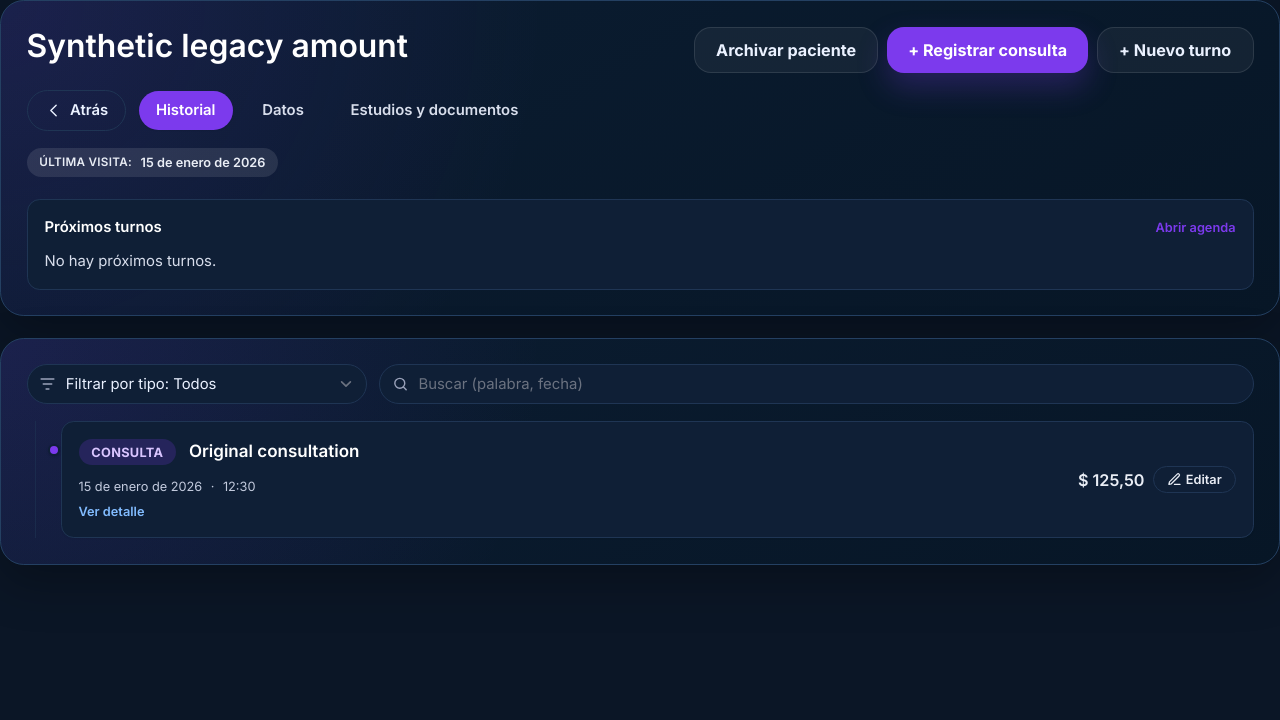
actual patient clinical editor submission › merges only an owned confirmed entry without a full page reload (owned: true)
The width and height of the screenshot is (1280, 720).
Click the button "+ Registrar consulta" at [988, 50], box [887,26,1088,73]
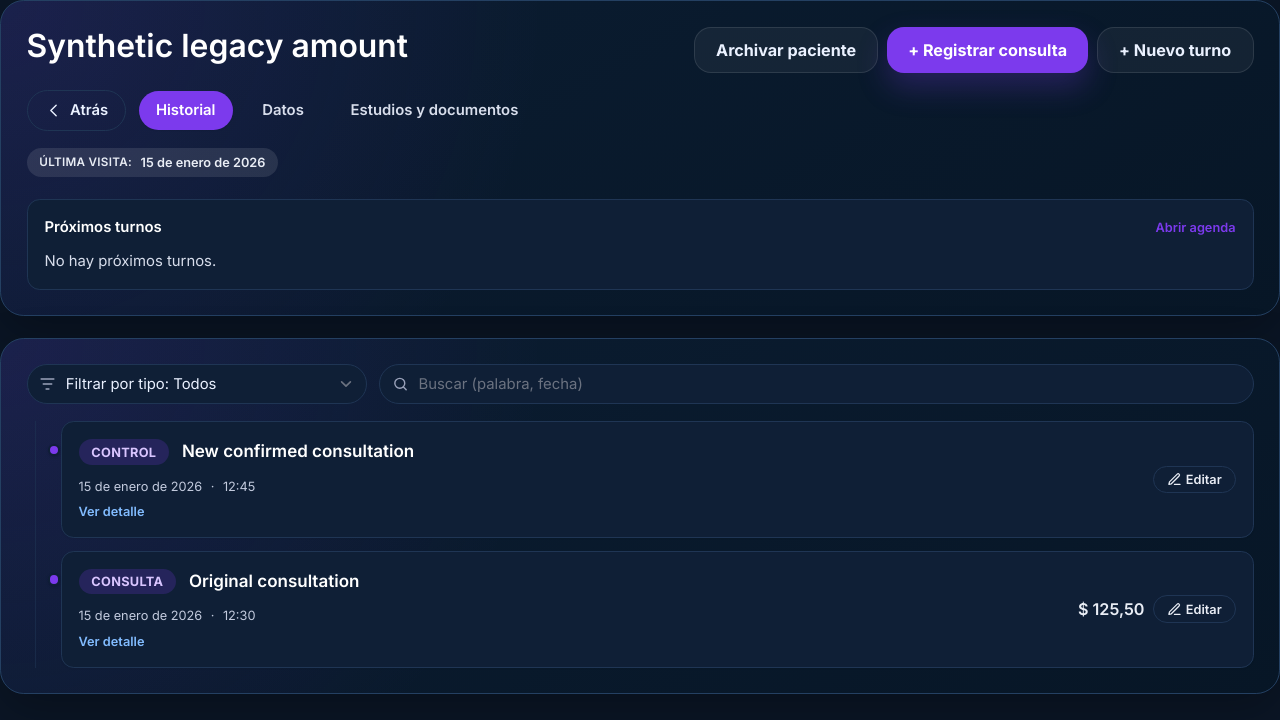
Expected: the text "Original consultation" is shown, [189,569,359,594]
Expected: the text "New confirmed consultation" is shown, [182,439,414,465]
